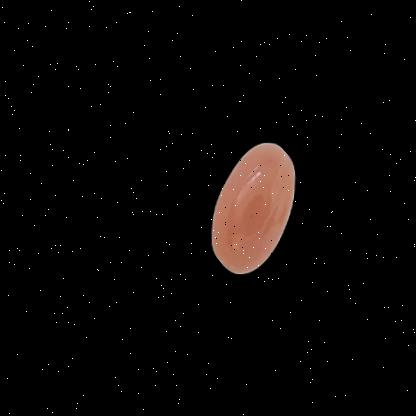opiqutan: (186, 112, 356, 331)
